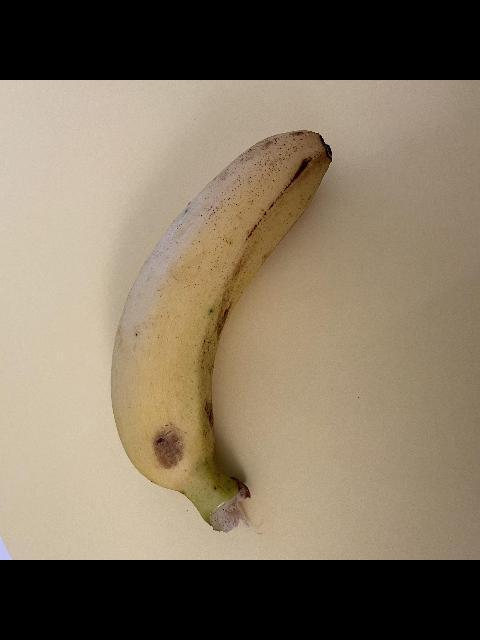banana: (107, 130, 332, 532)
